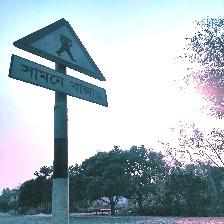Market-in-front: (9, 18, 109, 108)
